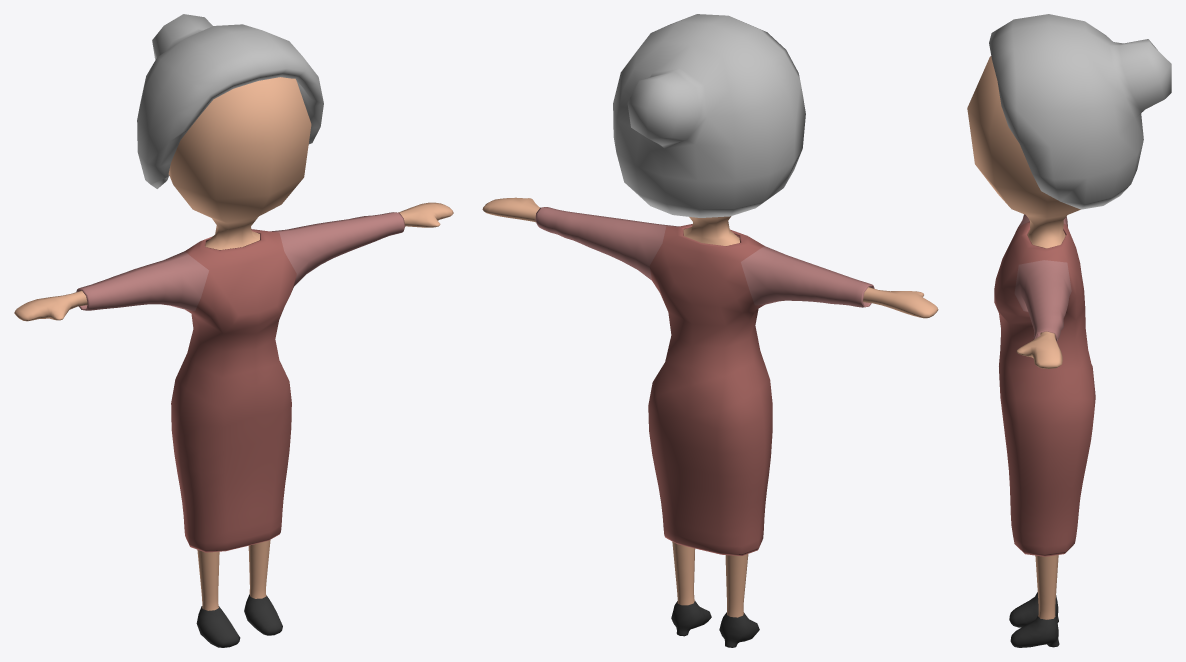
Rendered from body_old woman.fbx.
The picture shows the model from 3 angles, left to right: view 1: azimuth 30°, elevation 25°; view 2: azimuth 150°, elevation 25°; view 3: azimuth 270°, elevation 25°; orthographic projection. The views are drawn at different scales.
Visible parts, largest first — view 1: shirt_old woman, body_old woman, hair_old woman, shoe_old woman; view 2: shirt_old woman, hair_old woman, body_old woman, shoe_old woman; view 3: shirt_old woman, hair_old woman, body_old woman, shoe_old woman.
Part boxes in pixels (x1,y1,x2,y2): shirt_old woman: (76,212,405,552); body_old woman: (14,77,453,610); hair_old woman: (137,14,323,188); shoe_old woman: (196,594,282,647); shirt_old woman: (535,207,874,555); hair_old woman: (613,14,805,217); body_old woman: (482,197,938,617); shoe_old woman: (671,601,759,647); shirt_old woman: (994,214,1095,556); hair_old woman: (989,14,1171,209); body_old woman: (967,56,1080,619); shoe_old woman: (1009,592,1059,647).
Size of the model in its own units: 156 by 206 by 62.35.
